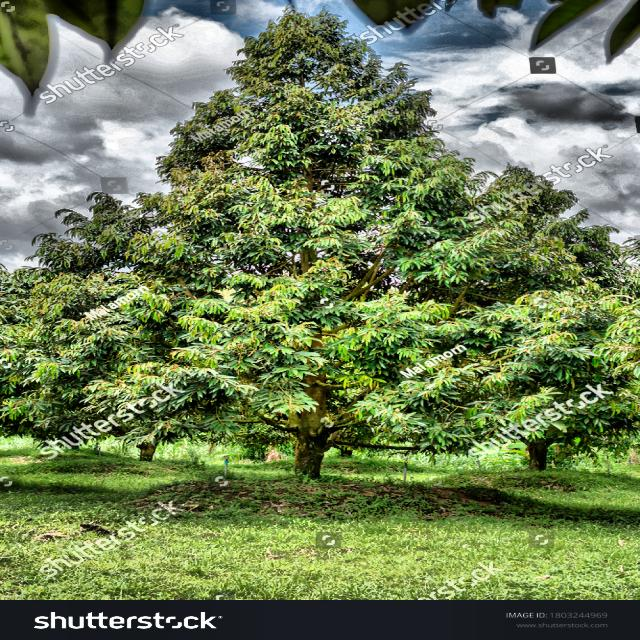arvore: (259, 325, 340, 497), (508, 396, 560, 478), (122, 402, 158, 474)
